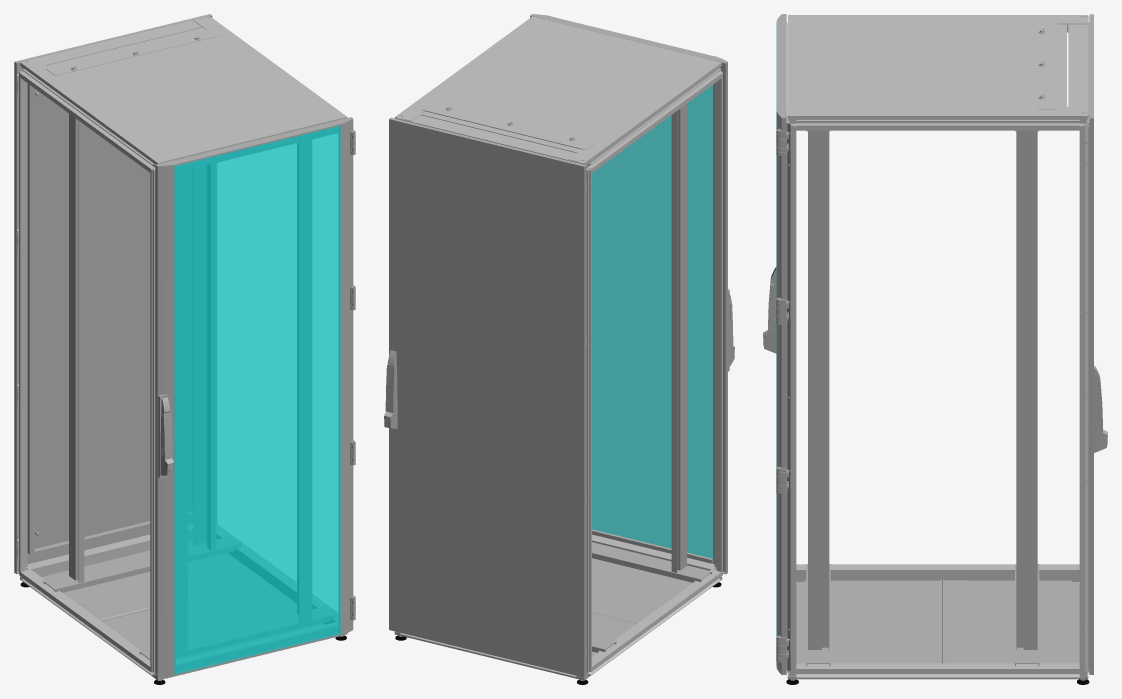
3 renders of one model, left to right at view 1: azimuth 30°, elevation 25°; view 2: azimuth 150°, elevation 25°; view 3: azimuth 270°, elevation 25°, orthographic. The views are drawn at different scales.
Visible parts, largest first — view 1: 880X_00_37, 7820X_00_15(2), 7856.731(2) (×2), 7826.805(2,RAL 7035)_0, 880X_00_35 (2), 88X0_00_11 (2,RAL 7035) (×2), 8X0X_00_12 (2,RAL 7035) (×2), 55XX_00_04 (2) (×2), 88X6_00_04 (2), 88X0_00_03 (2); view 2: 7820X_00_15(2), 880X_00_37, 7826.805(2,RAL 7035)_0, 7856.731(2), 8X0X_00_12 (2,RAL 7035) (×2), 88X0_00_11 (2,RAL 7035) (×2), 880X_00_35 (2), 55XX_00_04 (2) (×2), 88X0_00_03 (2); view 3: 7826.805(2,RAL 7035)_0, 7856.731(2) (×2), 88X0_00_11 (2,RAL 7035) (×2), 8X0X_00_12 (2,RAL 7035) (×2), 55XX_00_04 (2) (×2), 880X_00_35 (2), 88X6_00_04 (2), 88X0_00_03 (2), 7820X_00_15(2), 88X0_00_01 (2), 880X_00_37.
Boxes of the visible parts, <box> form: 880X_00_37: <box>174,125,341,674</box>; 7820X_00_15(2): <box>14,14,212,574</box>; 7856.731(2) (×2): <box>43,114,337,659</box>; 7826.805(2,RAL 7035)_0: <box>20,16,347,164</box>; 880X_00_35 (2): <box>155,117,355,677</box>; 88X0_00_11 (2,RAL 7035) (×2): <box>20,67,337,677</box>; 8X0X_00_12 (2,RAL 7035) (×2): <box>19,70,155,672</box>; 55XX_00_04 (2) (×2): <box>102,582,322,660</box>; 88X6_00_04 (2): <box>41,540,241,605</box>; 88X0_00_03 (2): <box>80,566,263,621</box>; 7820X_00_15(2): <box>389,117,586,677</box>; 880X_00_37: <box>592,85,712,558</box>; 7826.805(2,RAL 7035)_0: <box>395,16,721,164</box>; 7856.731(2): <box>592,104,712,582</box>; 8X0X_00_12 (2,RAL 7035) (×2): <box>586,68,722,672</box>; 88X0_00_11 (2,RAL 7035) (×2): <box>397,67,721,677</box>; 880X_00_35 (2): <box>530,14,729,574</box>; 55XX_00_04 (2) (×2): <box>592,558,695,622</box>; 88X0_00_03 (2): <box>592,611,638,638</box>; 7826.805(2,RAL 7035)_0: <box>788,15,1088,119</box>; 7856.731(2) (×2): <box>806,130,1039,665</box>; 88X0_00_11 (2,RAL 7035) (×2): <box>786,22,1089,677</box>; 8X0X_00_12 (2,RAL 7035) (×2): <box>786,120,1089,673</box>; 55XX_00_04 (2) (×2): <box>804,580,939,663</box>; 880X_00_35 (2): <box>776,14,786,674</box>; 88X6_00_04 (2): <box>986,580,1071,663</box>; 88X0_00_03 (2): <box>940,579,986,663</box>; 7820X_00_15(2): <box>1088,14,1093,674</box>; 88X0_00_01 (2): <box>787,582,1088,679</box>; 880X_00_37: <box>776,23,776,665</box>.
Bounding box in the file's own units: 0.798 × 2.03 × 1.11.
